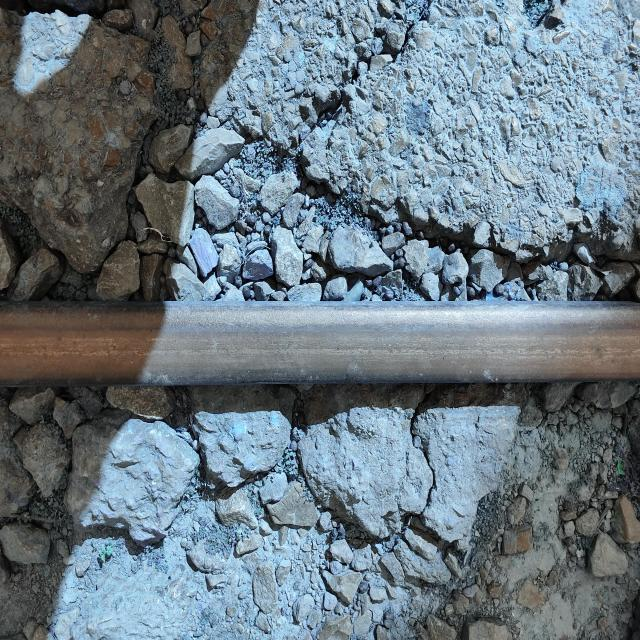non-defective: (2, 297, 638, 390)
